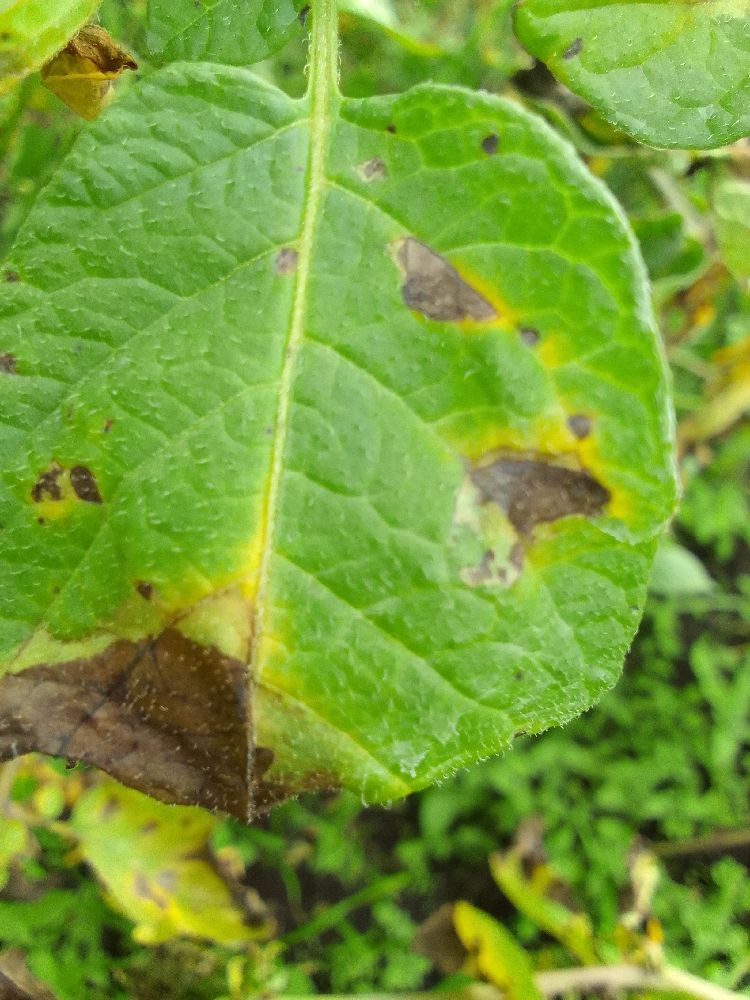late_blight: (0, 564, 355, 971), (370, 788, 569, 1000), (450, 399, 630, 587), (98, 923, 238, 1000)
